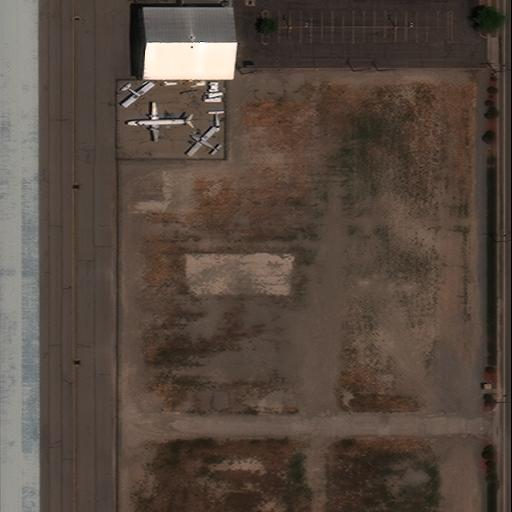Small Civil Transport: (124, 103, 194, 141), (184, 125, 220, 153), (124, 84, 155, 108)
